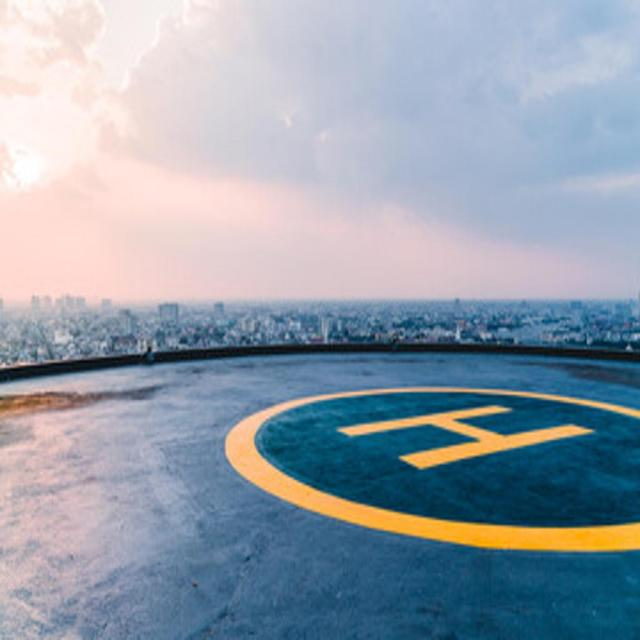helipad: (222, 382, 640, 550)
